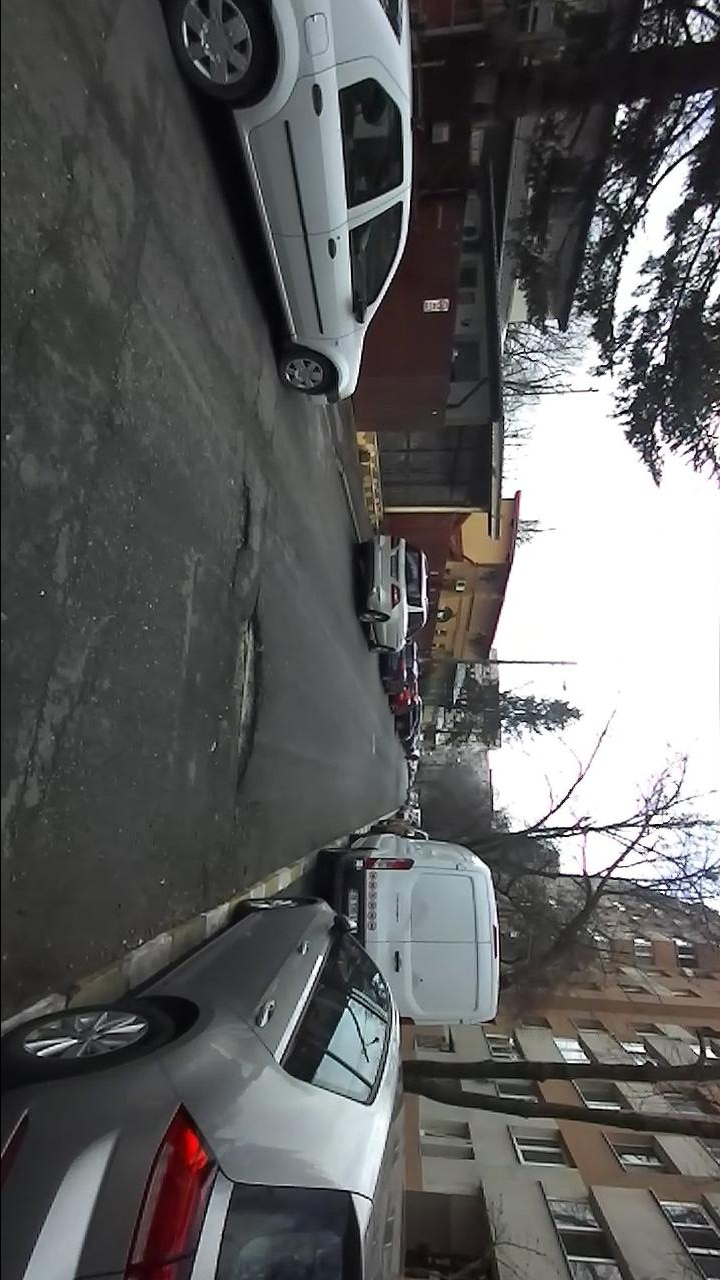pothole: (223, 595, 266, 797), (226, 471, 255, 579)
